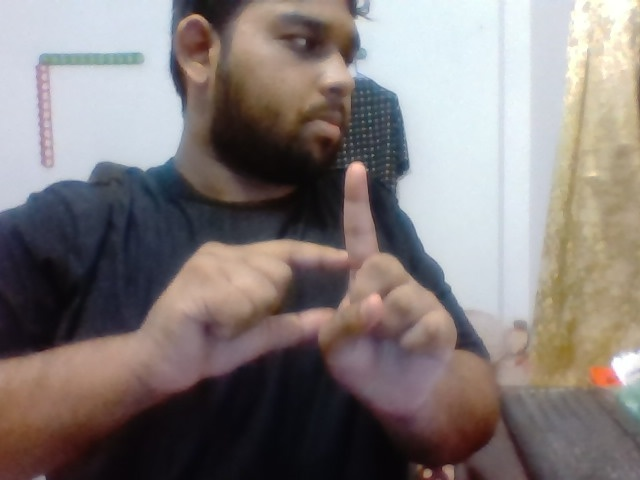D: (162, 148, 473, 416)
